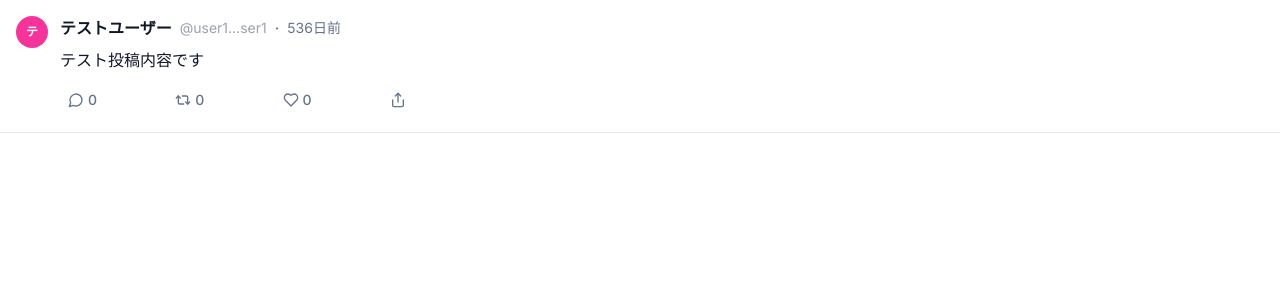
Test case: PostItem › should show reply form when reply button is clicked
Click the 1st button "0" at [82, 100], box [60,84,105,116]
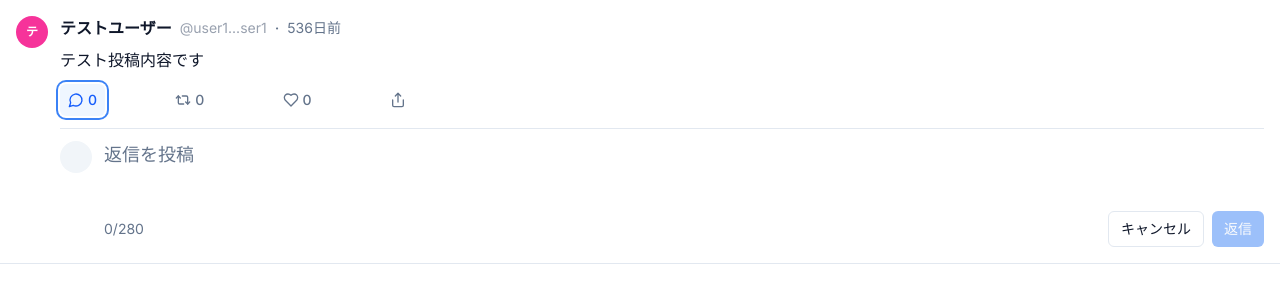
Check: the text box with placeholder "返信を投稿" is shown, box [104,141,1264,197]
Check: the button "キャンセル" is shown, box [1108,211,1204,247]
